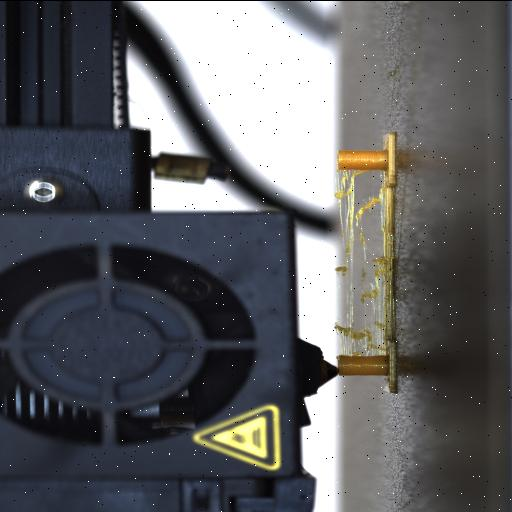stringing: (332, 166, 389, 356)
